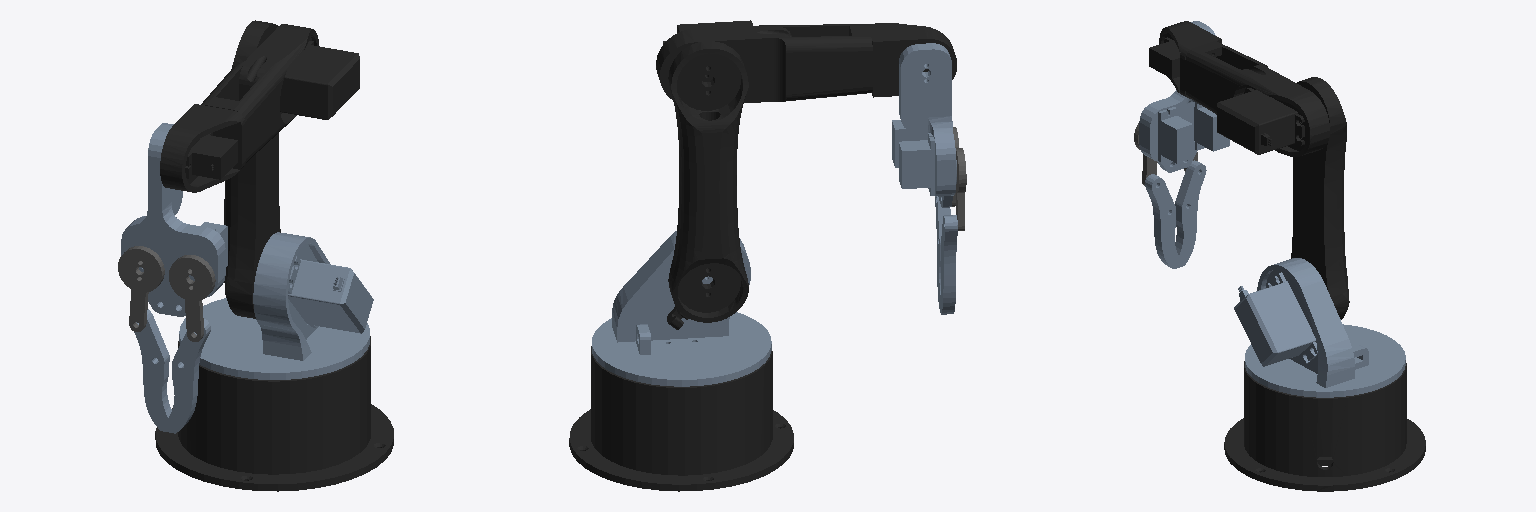
The robot description file, URDF, robot "urdf_V4":
<?xml version="1.0" encoding="utf-8"?>
<robot name="urdf_V4" xmlns:xacro="http://www.ros.org/wiki/xacro">

  <link name="world"/>
  
  <joint name="world_to_base" type="fixed">
    <parent link="world"/>
    <child link="base_link"/>
  </joint>

   <link
    name="base_link">
    <inertial>
      <origin
        xyz="0.052962 -0.094417 0.049594"
        rpy="0 0 0" />
      <mass
        value="0.119" />
      <inertia
        ixx="0.00013383"
        ixy="6.8295E-11"
        ixz="3.6366E-06"
        iyy="0.00014723"
        iyz="5.1205E-12"
        izz="0.000214" />
    </inertial>
    <visual>
      <origin
        xyz="0 0 0"
        rpy="0 0 0" />
      <geometry>
        <mesh
          filename="package://my_robot_arm_pkg/meshes/base_link.STL" />
      </geometry>
      <material
        name="">
        <color
          rgba="0.2 0.2 0.2 1.0" />
      </material>
    </visual>
    <collision>
      <origin
        xyz="0 0 0"
        rpy="0 0 0" />
      <geometry>
        <mesh
          filename="package://my_robot_arm_pkg/meshes/base_link.STL" />
      </geometry>
    </collision>
  </link>
  <link
    name="link1">
    <inertial>
      <origin
        xyz="0.0059207 -0.012971 0.022635"
        rpy="0 0 0" />
      <mass
        value="0.093" />
      <inertia
        ixx="5.7426E-05"
        ixy="-5.6415E-06"
        ixz="3.3676E-06"
        iyy="5.9444E-05"
        iyz="8.899E-06"
        izz="6.238E-05" />
    </inertial>
    <visual>
      <origin
        xyz="0 0 0"
        rpy="0 0 0" />
      <geometry>
        <mesh
          filename="package://my_robot_arm_pkg/meshes/link1.STL" />
      </geometry>
      <material
        name="">
        <color
          rgba="0.52 0.58 0.65 1.0" />
      </material>
    </visual>
    <collision>
      <origin
        xyz="0 0 0"
        rpy="0 0 0" />
      <geometry>
        <mesh
          filename="package://my_robot_arm_pkg/meshes/link1.STL" />
      </geometry>
    </collision>
  </link>
  <joint
    name="J1"
    type="revolute">
    <origin
      xyz="0.05542 -0.094417 0.082"
      rpy="0 0 0" />
    <parent
      link="base_link" />
    <child
      link="link1" />
    <axis
      xyz="0 0 1" />
    <limit
      lower="0"
      upper="3.14"
      effort="0.92"
      velocity="6.16" />
  </joint>
  <link
    name="link2">
    <inertial>
      <origin
        xyz="-0.00012999 0.058589 0.0077691"
        rpy="0 0 0" />
      <mass
        value="0.032" />
      <inertia
        ixx="0.00010704"
        ixy="-1.7383E-09"
        ixz="2.5177E-10"
        iyy="9.11E-06"
        iyz="2.396E-07"
        izz="0.00011184" />
    </inertial>
    <visual>
      <origin
        xyz="0 0 0"
        rpy="0 0 0" />
      <geometry>
        <mesh
          filename="package://my_robot_arm_pkg/meshes/link2.STL" />
      </geometry>
      <material
        name="">
        <color
          rgba="0.2 0.2 0.2 1.0" />
      </material>
    </visual>
    <collision>
      <origin
        xyz="0 0 0"
        rpy="0 0 0" />
      <geometry>
        <mesh
          filename="package://my_robot_arm_pkg/meshes/link2.STL" />
      </geometry>
    </collision>
  </link>
  <joint
    name="J2"
    type="revolute">
    <origin
      xyz="-0.0099117 -0.009936 0.040276"
      rpy="1.5708 0 -2.4836" />
    <parent
      link="link1" />
    <child
      link="link2" />
    <axis
      xyz="0 0 -1" />
    <limit
      lower="-1.57"
      upper="1.57"
      effort="0.92"
      velocity="6.16" />
  </joint>
  <link
    name="link3">
    <inertial>
      <origin
        xyz="0.045369 -4.58E-05 -0.01512"
        rpy="0 0 0" />
      <mass
        value="0.101" />
      <inertia
        ixx="1.8199E-05"
        ixy="-5.8051E-08"
        ixz="-4.9913E-08"
        iyy="6.8738E-05"
        iyz="4.0491E-09"
        izz="6.9563E-05" />
    </inertial>
    <visual>
      <origin
        xyz="0 0 0"
        rpy="0 0 0" />
      <geometry>
        <mesh
          filename="package://my_robot_arm_pkg/meshes/link3.STL" />
      </geometry>
      <material
        name="">
        <color
          rgba="0.2 0.2 0.2 1.0" />
      </material>
    </visual>
    <collision>
      <origin
        xyz="0 0 0"
        rpy="0 0 0" />
      <geometry>
        <mesh
          filename="package://my_robot_arm_pkg/meshes/link3.STL" />
      </geometry>
    </collision>
  </link>
  <joint
    name="J3"
    type="revolute">
    <origin
      xyz="0 0.12 0"
      rpy="0 0 0" />
    <parent
      link="link2" />
    <child
      link="link3" />
    <axis
      xyz="0 0 -1" />
    <limit
      lower="-3.14"
      upper="0"
      effort="0.92"
      velocity="6.16" />
  </joint>
  <link
    name="link4">
    <inertial>
      <origin
        xyz="-0.0029037 0.043012 -0.0031096"
        rpy="0 0 0" />
      <mass
        value="0.0326" />
      <inertia
        ixx="1.9847E-05"
        ixy="2.5863E-06"
        ixz="-3.8847E-07"
        iyy="5.6319E-06"
        iyz="1.9904E-06"
        izz="1.8296E-05" />
    </inertial>
    <visual>
      <origin
        xyz="0 0 0"
        rpy="0 0 0" />
      <geometry>
        <mesh
          filename="package://my_robot_arm_pkg/meshes/link4.STL" />
      </geometry>
      <material
        name="">
        <color
          rgba="0.52 0.58 0.65 1.0" />
      </material>
    </visual>
    <collision>
      <origin
        xyz="0 0 0"
        rpy="0 0 0" />
      <geometry>
        <mesh
          filename="package://my_robot_arm_pkg/meshes/link4.STL" />
      </geometry>
    </collision>
  </link>
  <joint
    name="J4"
    type="revolute">
    <origin
      xyz="0.11785 -0.0003 0.00515"
      rpy="0 0 -3.1416" />
    <parent
      link="link3" />
    <child
      link="link4" />
    <axis
      xyz="0 0 -1" />
    <limit
      lower="-3.14"
      upper="0"
      effort="0.13"
      velocity="8.72" />
  </joint>
  <link
    name="link6">
    <inertial>
      <origin
        xyz="0.00039698 -0.0062489 0.002"
        rpy="0 0 0" />
      <mass
        value="0.002" />
      <inertia
        ixx="3.3647E-07"
        ixy="1.6687E-08"
        ixz="-1.7255E-17"
        iyy="7.4869E-08"
        iyz="3.4134E-16"
        izz="4.0497E-07" />
    </inertial>
    <visual>
      <origin
        xyz="0 0 0"
        rpy="0 0 0" />
      <geometry>
        <mesh
          filename="package://my_robot_arm_pkg/meshes/link6.STL" />
      </geometry>
      <material
        name="">
        <color
          rgba="0.4 0.4 0.4 1.0" />
      </material>
    </visual>
    <collision>
      <origin
        xyz="0 0 0"
        rpy="0 0 0" />
      <geometry>
        <mesh
          filename="package://my_robot_arm_pkg/meshes/link6.STL" />
      </geometry>
    </collision>
  </link>
  <joint
    name="J6"
    type="revolute">
    <origin
      xyz="-0.01585 0.0581 -0.0194"
      rpy="3.1416 1.5708 0" />
    <parent
      link="link4" />
    <child
      link="link6" />
    <axis
      xyz="0 0 -1" />
    <limit
      upper="0"
      lower="-1.501"
      effort="0.13"
      velocity="8.72" />
  </joint>
  <link
    name="leftTip">
    <inertial>
      <origin
        xyz="-0.0066699 -0.026438 -0.003425"
        rpy="0 0 0" />
      <mass
        value="0.0028" />
      <inertia
        ixx="1.3145E-06"
        ixy="-2.1507E-07"
        ixz="9.0908E-12"
        iyy="1.0069E-07"
        iyz="6.1836E-13"
        izz="1.3812E-06" />
    </inertial>
    <visual>
      <origin
        xyz="0 0 0"
        rpy="0 0 0" />
      <geometry>
        <mesh
          filename="package://my_robot_arm_pkg/meshes/leftTip.STL" />
      </geometry>
      <material
        name="">
        <color
          rgba="0.52 0.58 0.65 1.0" />
      </material>
    </visual>
    <collision>
      <origin
        xyz="0 0 0"
        rpy="0 0 0" />
      <geometry>
        <mesh
          filename="package://my_robot_arm_pkg/meshes/leftTip.STL" />
      </geometry>
    </collision>
  </link>
  <joint name="leftTip_joint" type="revolute">
    <origin xyz="0.0019496 -0.030688 0" rpy="0 0 0" />
    <parent link="link6" />
    <child link="leftTip" />
    <axis xyz="0 0 1" />
    <limit upper="0" lower="-1.501" effort="10" velocity="1.0" />
  </joint>
  <link
    name="link5">
    <inertial>
      <origin
        xyz="-0.00039698 -0.0062489 0.002"
        rpy="0 0 0" />
      <mass
        value="0.002" />
      <inertia
        ixx="3.3647E-07"
        ixy="-1.6687E-08"
        ixz="1.7255E-17"
        iyy="7.4869E-08"
        iyz="3.4134E-16"
        izz="4.0497E-07" />
    </inertial>
    <visual>
      <origin
        xyz="0 0 0"
        rpy="0 0 0" />
      <geometry>
        <mesh
          filename="package://my_robot_arm_pkg/meshes/link5.STL" />
      </geometry>
      <material
        name="">
        <color
          rgba="0.4 0.4 0.4 1.0" />
      </material>
    </visual>
    <collision>
      <origin
        xyz="0 0 0"
        rpy="0 0 0" />
      <geometry>
        <mesh
          filename="package://my_robot_arm_pkg/meshes/link5.STL" />
      </geometry>
    </collision>
  </link>
  <joint
    name="J5"
    type="revolute">
    <origin
      xyz="-0.01585 0.0581 0.0084"
      rpy="3.1416 1.5708 0" />
    <parent
      link="link4" />
    <child
      link="link5" />
    <axis
      xyz="0 0 -1" />
    <limit
      upper="1.501"
      lower="0"
      effort="0.13"
      velocity="8.72" />
  </joint>
  <link
    name="rightTip">
    <inertial>
      <origin
        xyz="0.0066699 -0.026438 -0.003425"
        rpy="0 0 0" />
      <mass
        value="0.0028" />
      <inertia
        ixx="1.3145E-06"
        ixy="2.1507E-07"
        ixz="9.0903E-12"
        iyy="1.0069E-07"
        iyz="-6.1572E-13"
        izz="1.3812E-06" />
    </inertial>
    <visual>
      <origin
        xyz="0 0 0"
        rpy="0 0 0" />
      <geometry>
        <mesh
          filename="package://my_robot_arm_pkg/meshes/rightTip.STL" />
      </geometry>
      <material
        name="">
        <color
          rgba="0.52 0.58 0.65 1.0" />
      </material>
    </visual>
    <collision>
      <origin
        xyz="0 0 0"
        rpy="0 0 0" />
      <geometry>
        <mesh
          filename="package://my_robot_arm_pkg/meshes/rightTip.STL" />
      </geometry>
    </collision>
  </link>
  <joint name="rightTip_joint" type="revolute">
    <origin xyz="-0.0019496 -0.030688 0" rpy="0 0 0" />
    <parent link="link5" />
    <child link="rightTip" />
    <axis xyz="0 0 1" />
    <limit lower="0" upper="1.5" effort="10" velocity="1.0" />
  </joint>

  <ros2_control name="RobotSystem" type="system">
    <hardware>
      <plugin>gz_ros2_control/GazeboSimSystem</plugin>
    </hardware>

    <joint name="J1">
      <command_interface name="position"/>
      <state_interface name="position"/>
      <state_interface name="velocity"/>
    </joint>
    <joint name="J2">
      <command_interface name="position"/>
      <state_interface name="position"/>
      <state_interface name="velocity"/>
    </joint>
    <joint name="J3">
      <command_interface name="position"/>
      <state_interface name="position"/>
      <state_interface name="velocity"/>
    </joint>
    <joint name="J4">
      <command_interface name="position"/>
      <state_interface name="position"/>
      <state_interface name="velocity"/>
    </joint>
    <joint name="J5">
      <command_interface name="position"/>
      <state_interface name="position"/>
      <state_interface name="velocity"/>
    </joint>
    <joint name="J6">
      <command_interface name="position"/>
      <state_interface name="position"/>
      <state_interface name="velocity"/>
    </joint>
    <joint name="leftTip_joint">
      <command_interface name="position"/>
      <state_interface name="position"/>
      <state_interface name="velocity"/>
    </joint>
    <joint name="rightTip_joint">
      <command_interface name="position"/>
      <state_interface name="position"/>
      <state_interface name="velocity"/>
    </joint>
  </ros2_control>

  <gazebo>
    <plugin filename="gz_ros2_control-system" name="gz_ros2_control::GazeboSimROS2ControlPlugin">
      <parameters>package://my_robot_arm_pkg/config/joint_controllers.yaml</parameters>
    </plugin>
  </gazebo>
</robot>

--- What the picture shows (computed from the rendered views, not written in the file) ---
3 views of the same robot in one strip: view 1: azimuth 30°, elevation 25°; view 2: azimuth 150°, elevation 25°; view 3: azimuth 270°, elevation 25° (orthographic).
Model urdf_V4 with 10 links and 9 joints (8 revolute, 1 fixed), rooted at world, posed every joint at zero.
Links seen in each view (by area): view 1: base_link, link1, link3, link2, link4, rightTip, link6, link5, leftTip; view 2: base_link, link2, link3, link1, link4, rightTip, link5, leftTip; view 3: base_link, link1, link3, link2, link4, rightTip, leftTip.
Link boxes in pixels (x1,y1,x2,y2): base_link: (155,336,393,491); link1: (179,232,373,379); link3: (160,24,359,192); link2: (224,20,280,318); link4: (121,123,227,316); rightTip: (134,309,171,431); link6: (169,255,215,341); link5: (118,246,164,331); leftTip: (168,319,210,433); base_link: (569,346,793,491); link2: (667,41,748,329); link3: (656,20,956,102); link1: (592,231,771,386); link4: (892,43,956,207); rightTip: (940,215,957,314); link5: (956,148,966,230); leftTip: (935,196,950,308); base_link: (1224,361,1425,491); link1: (1234,258,1405,397); link3: (1149,21,1329,156); link2: (1291,77,1349,319); link4: (1139,21,1229,172); rightTip: (1175,160,1206,267); leftTip: (1145,174,1178,268).
Bounding box of the posed robot: 0.1952 × 0.1756 × 0.2378 m (x, y, z).
Meshes: 9 distinct files referenced, 9 mesh visuals loaded (9 binary STL).